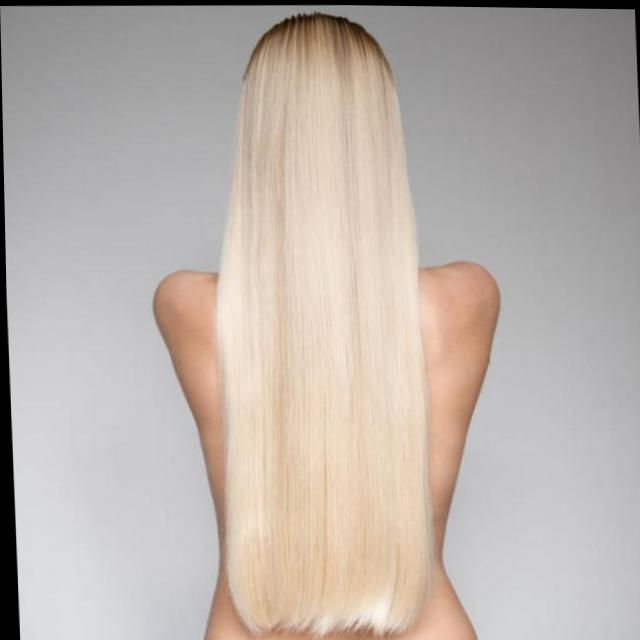no helmet: (233, 9, 411, 251)
